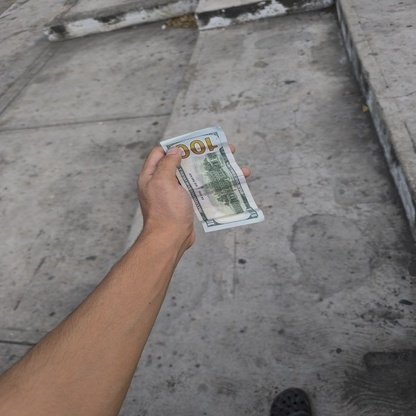one_hundred-back: (157, 124, 270, 242)
